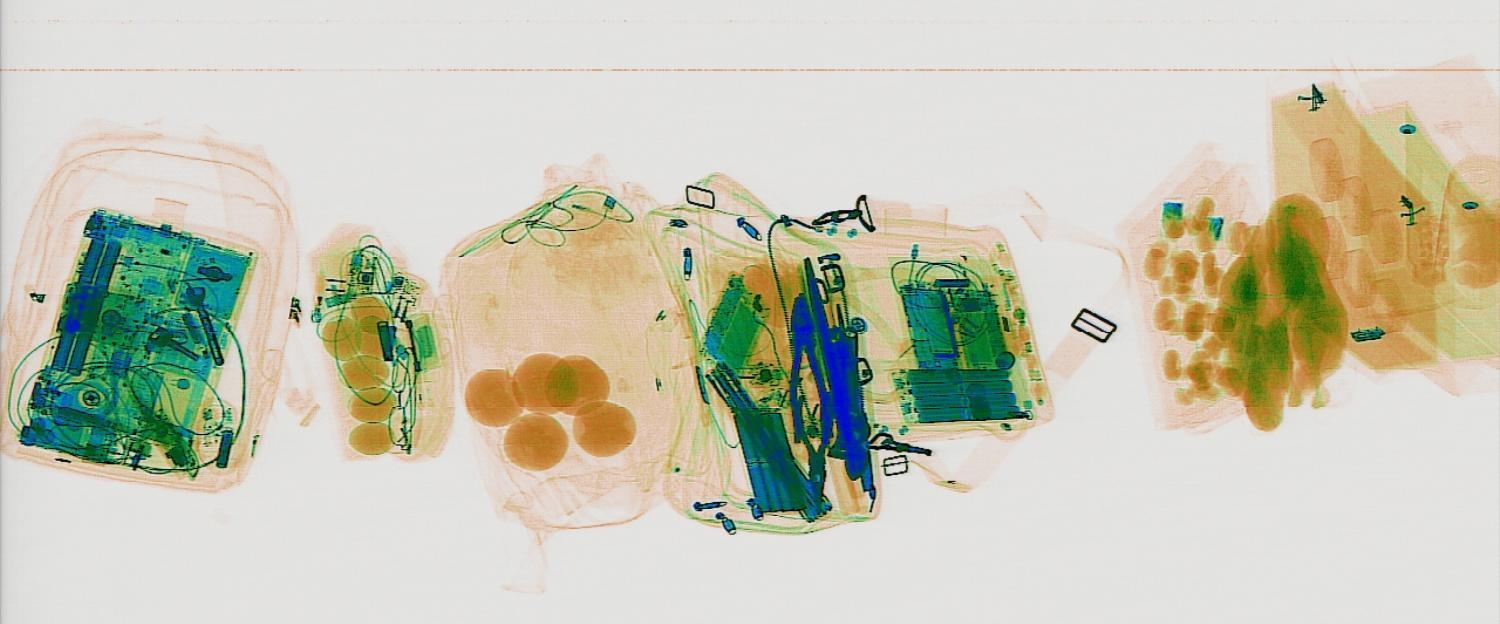Pliers: (775, 293, 840, 442)
